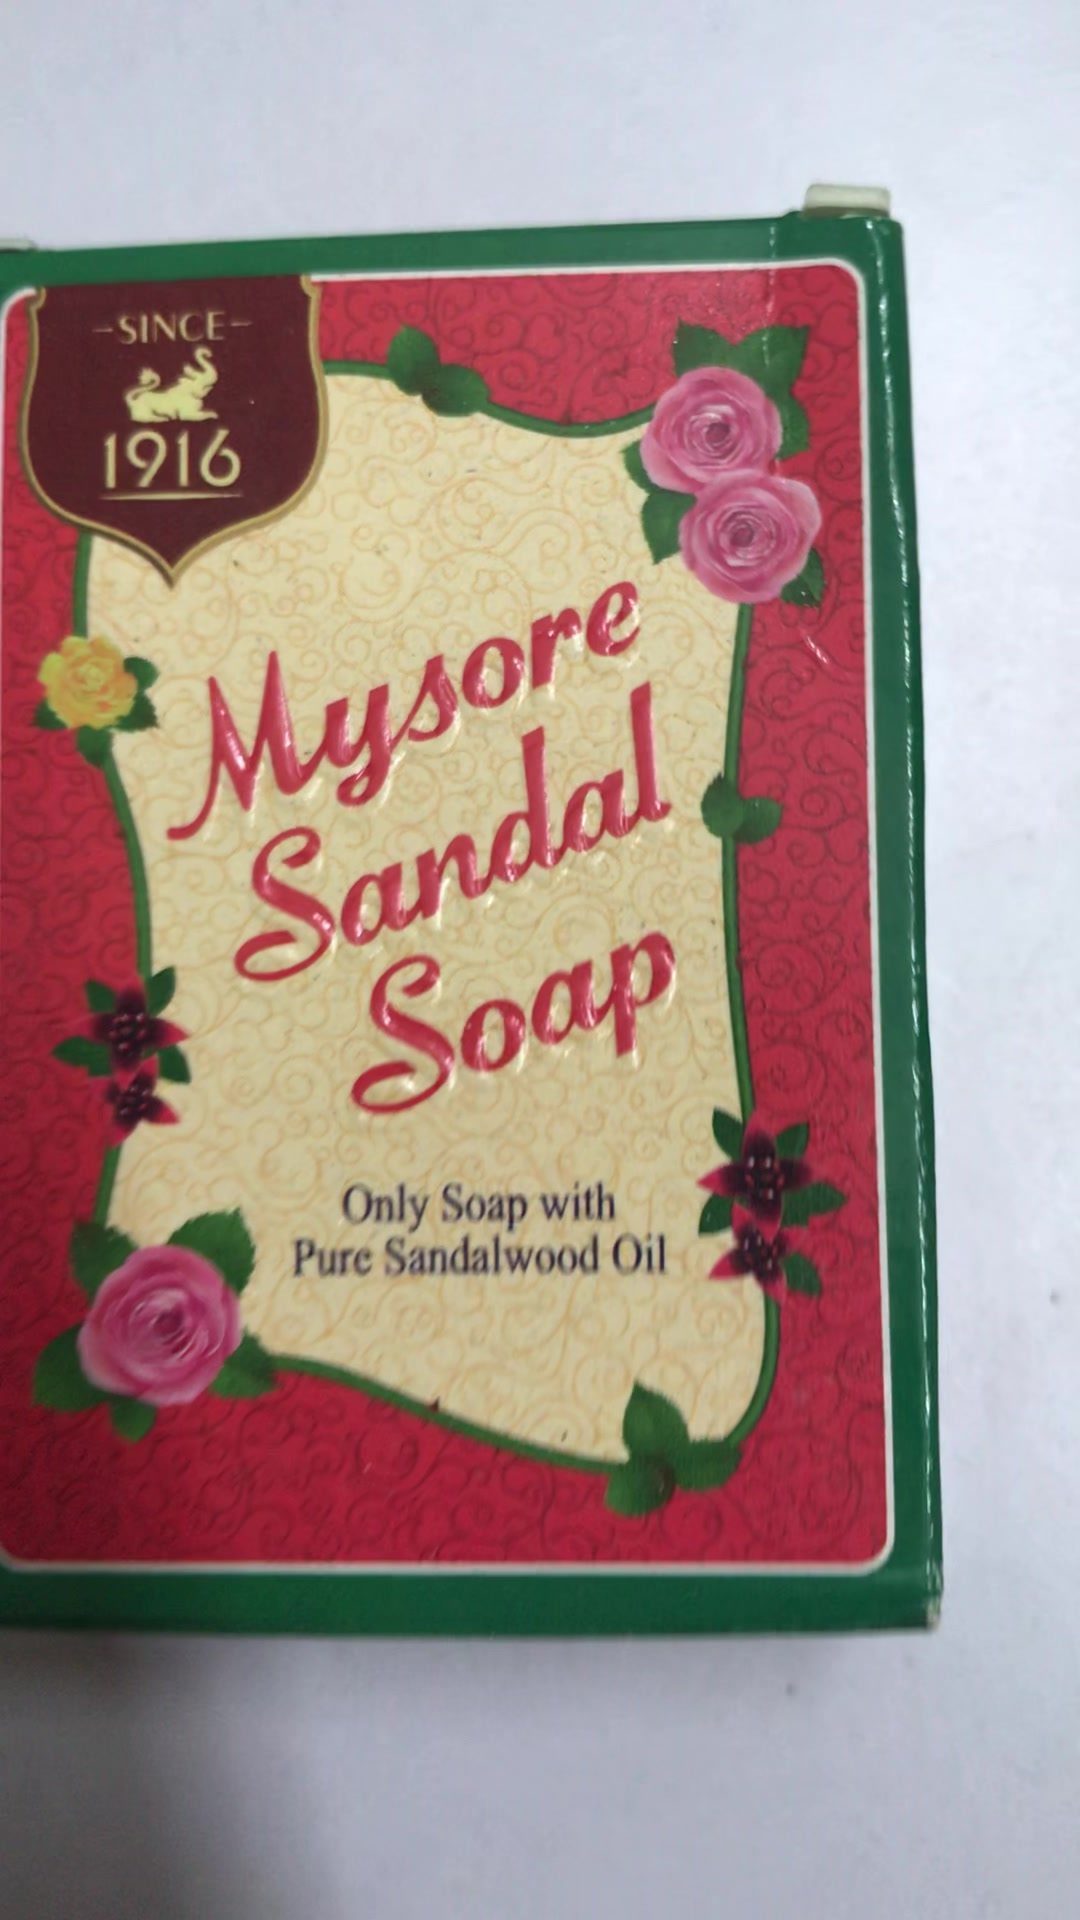mysore sandal soap: (11, 244, 945, 1638)
